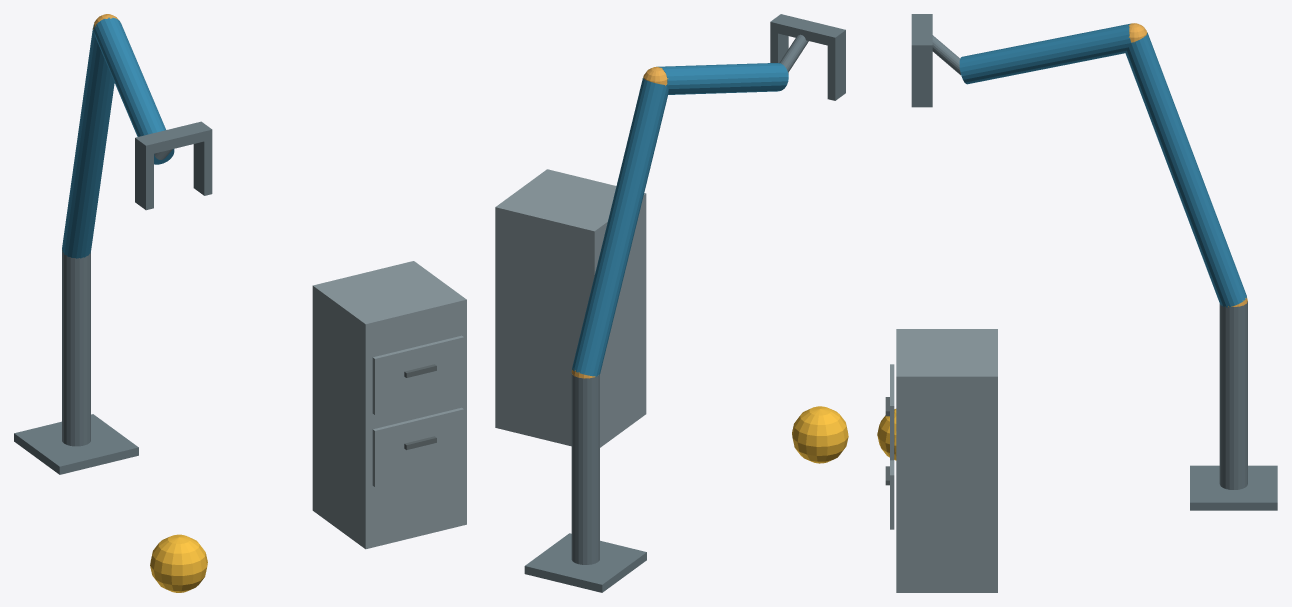
3 views of the same model, side by side, from view 1: azimuth 30°, elevation 25°; view 2: azimuth 150°, elevation 25°; view 3: azimuth 270°, elevation 25° (orthographic). The views are drawn at different scales.
Visible parts, largest first — view 1: cabinet_1 body, moving link 1, fixed post, cabinet_1 drawer front, cabinet_1 drawer front.001, pedestal, moving link 2, ball ball_1, gripper bridge, gripper finger -1, gripper finger 1; view 2: cabinet_1 body, moving link 1, fixed post, pedestal, moving link 2, ball ball_1, gripper bridge, gripper finger -1, gripper finger 1, gripper wrist connector; view 3: cabinet_1 body, moving link 1, fixed post, moving link 2, pedestal, gripper finger 1, gripper bridge, ball ball_1.
Boxes of the visible parts, x1=… form: cabinet_1 body: x1=312, y1=261, x2=466, y2=549; moving link 1: x1=62, y1=24, x2=114, y2=258; fixed post: x1=62, y1=251, x2=90, y2=446; cabinet_1 drawer front: x1=372, y1=407, x2=463, y2=486; cabinet_1 drawer front.001: x1=372, y1=335, x2=463, y2=414; pedestal: x1=14, y1=414, x2=138, y2=474; moving link 2: x1=93, y1=17, x2=174, y2=164; ball ball_1: x1=150, y1=534, x2=207, y2=592; gripper bridge: x1=135, y1=121, x2=212, y2=155; gripper finger -1: x1=135, y1=148, x2=153, y2=210; gripper finger 1: x1=193, y1=139, x2=212, y2=195; cabinet_1 body: x1=495, y1=169, x2=646, y2=447; moving link 1: x1=572, y1=78, x2=668, y2=376; fixed post: x1=571, y1=373, x2=599, y2=564; pedestal: x1=524, y1=533, x2=646, y2=592; moving link 2: x1=656, y1=63, x2=788, y2=94; ball ball_1: x1=792, y1=406, x2=848, y2=463; gripper bridge: x1=770, y1=14, x2=845, y2=47; gripper finger -1: x1=827, y1=40, x2=845, y2=100; gripper finger 1: x1=770, y1=31, x2=788, y2=74; gripper wrist connector: x1=779, y1=34, x2=808, y2=72; cabinet_1 body: x1=896, y1=329, x2=997, y2=592; moving link 1: x1=1125, y1=32, x2=1246, y2=307; fixed post: x1=1219, y1=301, x2=1247, y2=489; moving link 2: x1=959, y1=23, x2=1131, y2=84; pedestal: x1=1190, y1=465, x2=1277, y2=510; gripper finger 1: x1=911, y1=54, x2=932, y2=107; gripper bridge: x1=911, y1=14, x2=932, y2=54; ball ball_1: x1=877, y1=409, x2=896, y2=460.
Size of the model in its own units: 0.9891 by 1.44 by 1.14.
